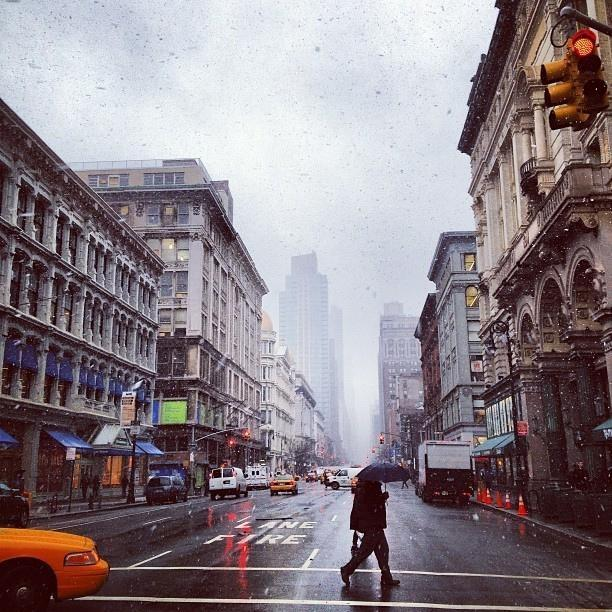car: (2, 526, 112, 612), (0, 482, 31, 530), (143, 476, 187, 506), (270, 474, 299, 493), (305, 472, 318, 482)
truck: (414, 440, 472, 506), (208, 467, 250, 500), (324, 468, 365, 489), (245, 466, 274, 490)
